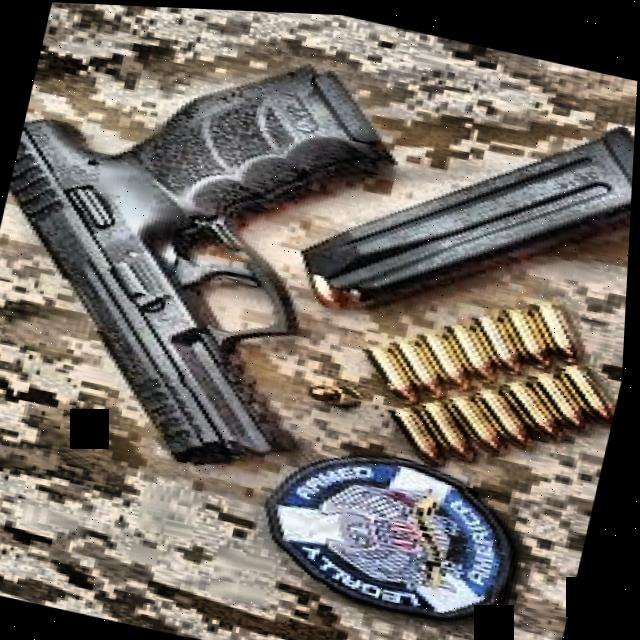HKVP9: (0, 3, 424, 495)
